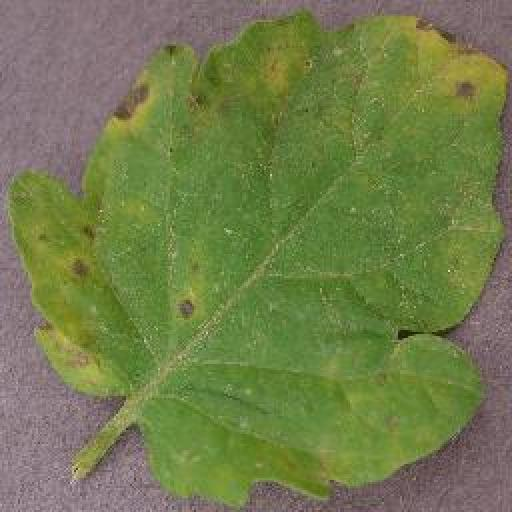Septoria: (10, 4, 512, 510)
